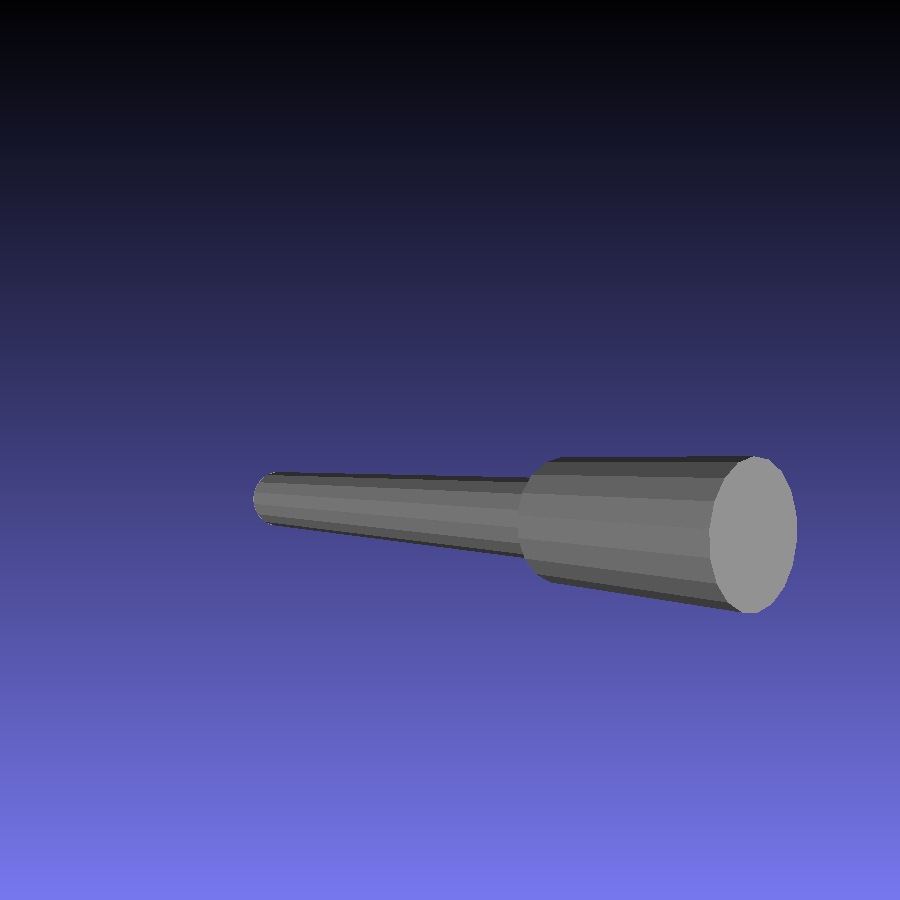cargo_g: (252, 455, 800, 616)
